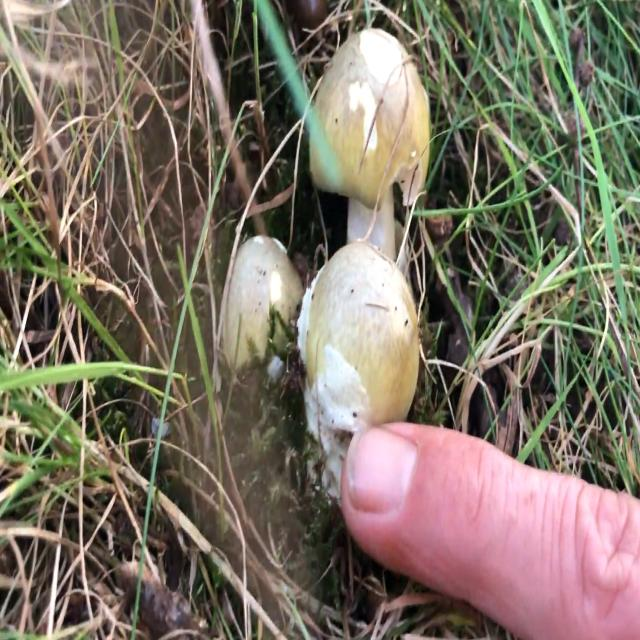death-cap: (297, 242, 424, 503), (305, 29, 431, 261)
